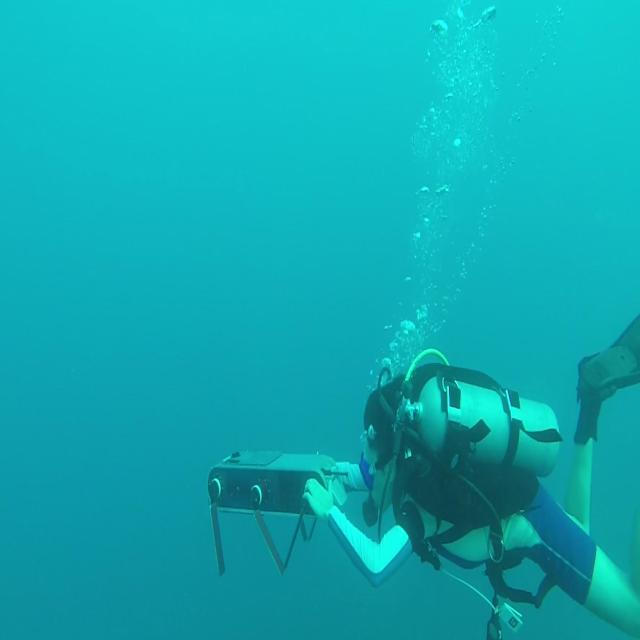human: (302, 291, 640, 640)
